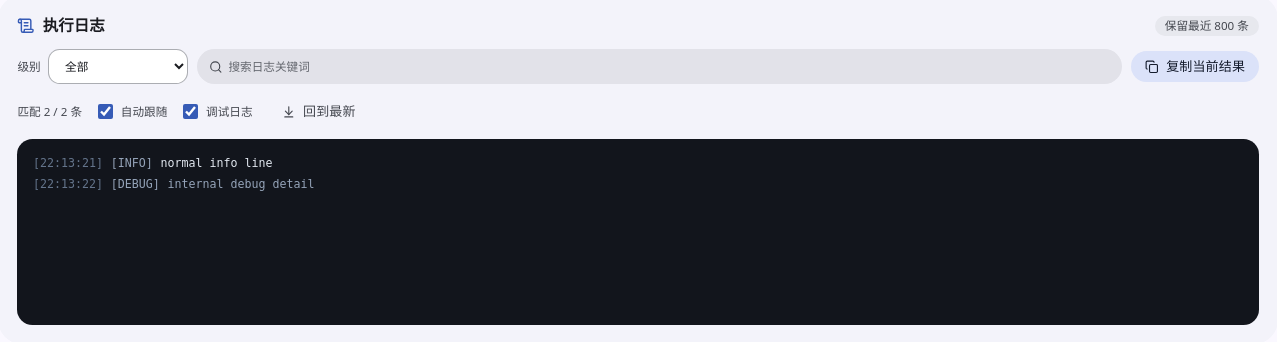
Test: Desktop Parity features (Phases 1-6) › renders DEBUG logs, hides them under regular info filter, and toggles live debug
Later steps or results of the test are not shown.
Expected: the text "internal debug detail" is shown, [167, 177, 314, 191]
Select "常规（隐藏调试）" in the dropdown named "日志级别" at coordinates (118, 67), box [48, 49, 188, 84]
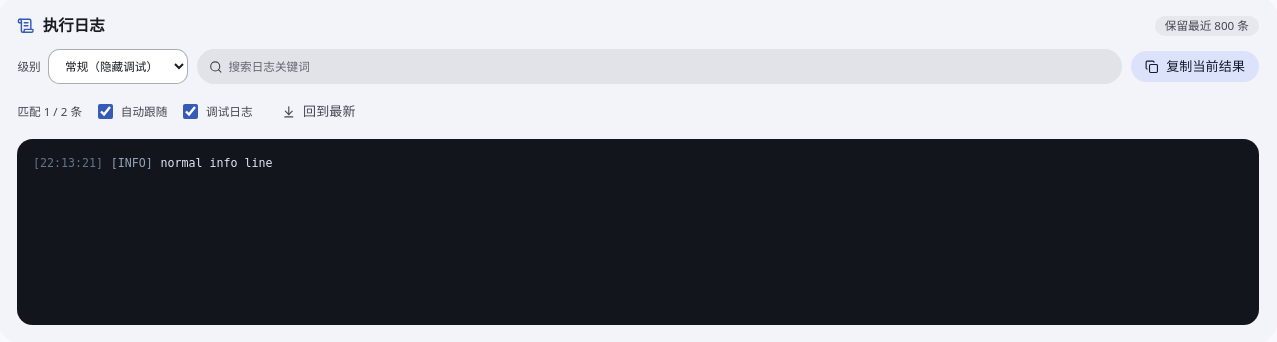
Expected: the text "normal info line" is shown, [160, 156, 272, 170]
Result: the text "internal debug detail" is gone
